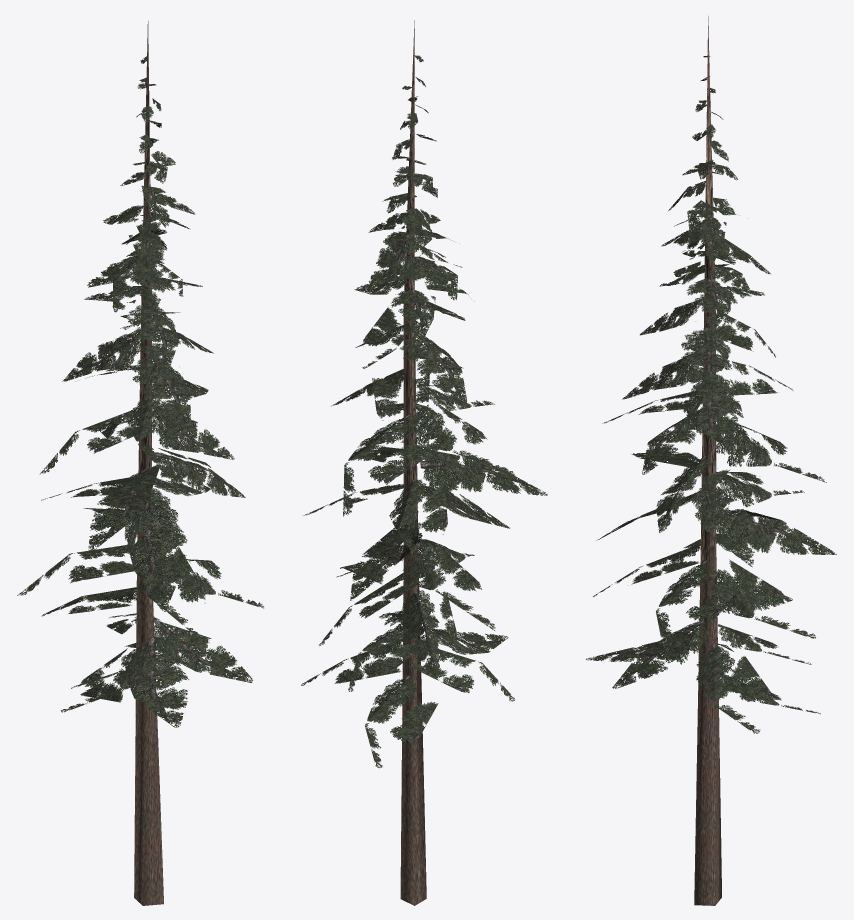
The model's file is conf_mtns_sparse_l1.fbx.
3 views of the same model, side by side, from view 1: azimuth 30°, elevation 25°; view 2: azimuth 150°, elevation 25°; view 3: azimuth 270°, elevation 25° (orthographic).
Parts seen in each view (by area): view 1: mesh_node; view 2: mesh_node; view 3: mesh_node.
Part boxes in pixels (x1,y1,x2,y2): mesh_node: (17,21,263,905); mesh_node: (301,20,547,905); mesh_node: (586,16,836,905).
Size of the model in its own units: 5.24 by 21.34 by 5.64.
Materials: 2 (2 with a texture image).
